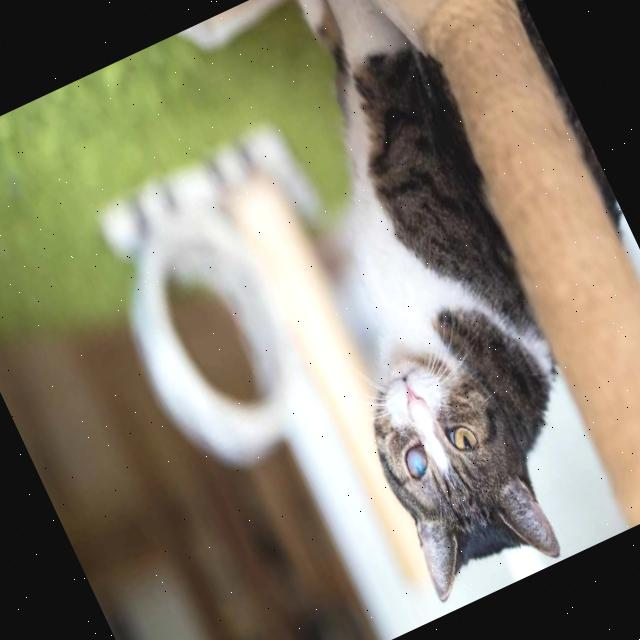cat-eye: (394, 432, 439, 487)
cat-eye-normal: (438, 409, 488, 466)
